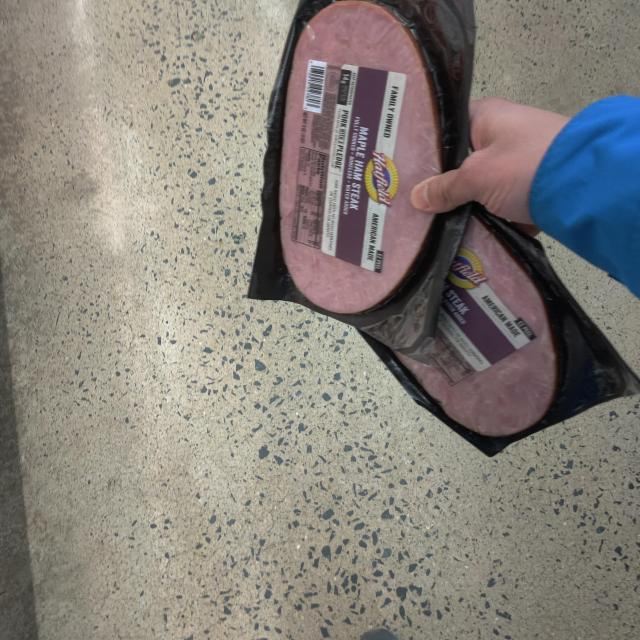Meat: (254, 0, 473, 360), (379, 204, 640, 456)
